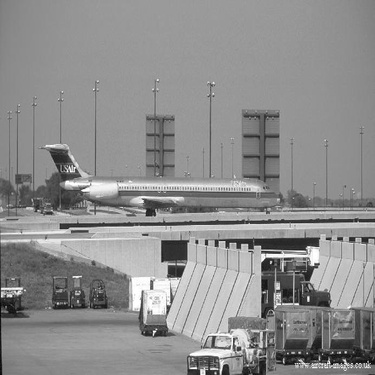airplane: (14, 127, 297, 231)
